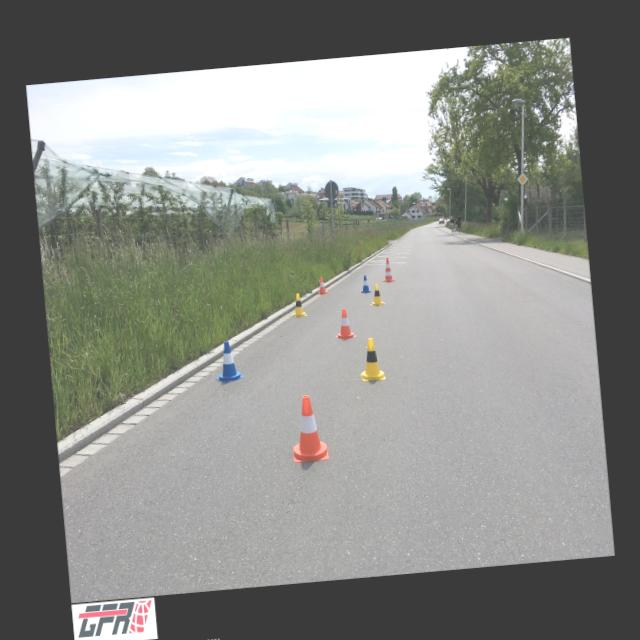blue_cone: (212, 339, 244, 382), (358, 274, 372, 292)
large_orange_cone: (380, 257, 395, 282)
orange_cone: (288, 393, 328, 462), (332, 307, 357, 340), (316, 276, 328, 294)
yellow_cone: (357, 336, 385, 381), (290, 293, 307, 317), (368, 283, 384, 306)
